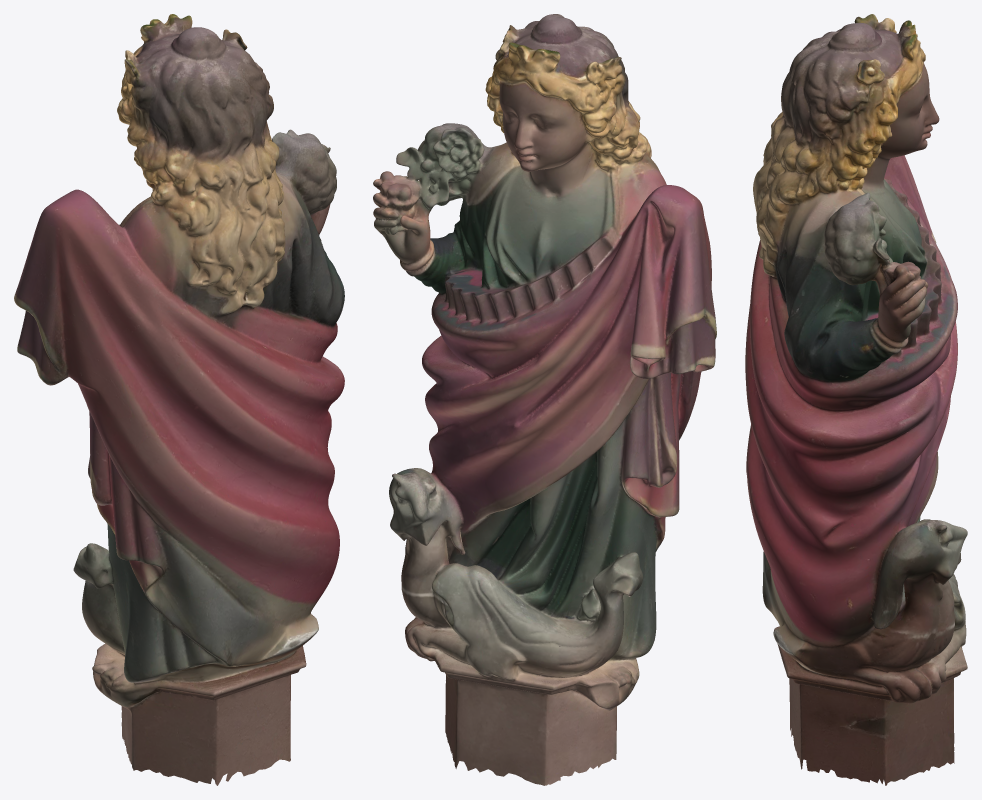
Rendered from margarethe.fbx.
3 renders of one model, left to right at view 1: azimuth 30°, elevation 25°; view 2: azimuth 150°, elevation 25°; view 3: azimuth 270°, elevation 25°, orthographic.
Visible parts, largest first — view 1: margarethe; view 2: margarethe; view 3: margarethe.
Boxes of the visible parts, bbox=[...] form: margarethe: bbox=[14, 14, 344, 785]; margarethe: bbox=[373, 14, 716, 785]; margarethe: bbox=[745, 14, 967, 785].
Size of the model in its own units: 79.84 by 173 by 48.91.
